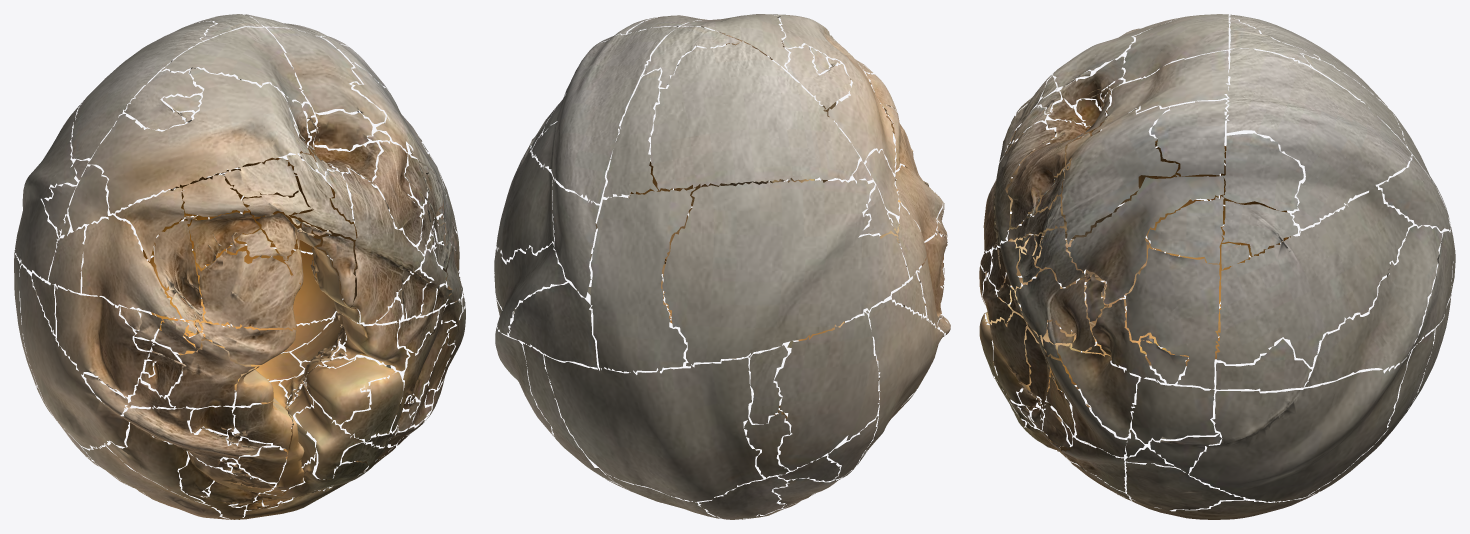
Rendered from fuzzy-egg-closeup.glb.
The picture shows the model from 3 angles, left to right: view 1: azimuth 30°, elevation 25°; view 2: azimuth 150°, elevation 25°; view 3: azimuth 270°, elevation 25°; orthographic projection. The views are drawn at different scales.
Visible parts, largest first — view 1: tripo_node_7fbc0607-ecbf-4ac5-ae5e-f92d94611e68; view 2: tripo_node_7fbc0607-ecbf-4ac5-ae5e-f92d94611e68; view 3: tripo_node_7fbc0607-ecbf-4ac5-ae5e-f92d94611e68.
Boxes of the visible parts, <box> form: tripo_node_7fbc0607-ecbf-4ac5-ae5e-f92d94611e68: <box>14,14,465,519</box>; tripo_node_7fbc0607-ecbf-4ac5-ae5e-f92d94611e68: <box>494,14,950,519</box>; tripo_node_7fbc0607-ecbf-4ac5-ae5e-f92d94611e68: <box>979,14,1455,519</box>.
Size of the model in its own units: 0.8613 by 0.9799 by 0.8991.
Materials: 1 (1 with a texture image).
